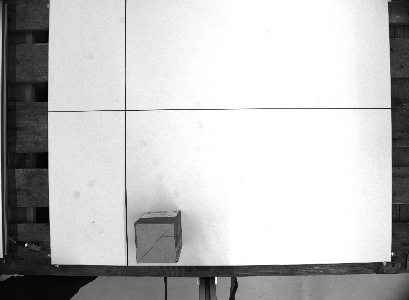b4: (132, 206, 185, 264)
